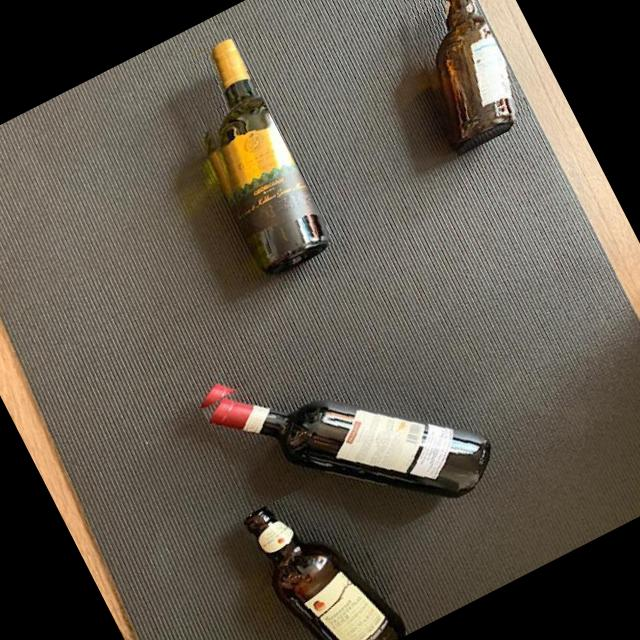Glass: (193, 282, 505, 582), (158, 36, 336, 284), (237, 473, 409, 640), (381, 0, 533, 156)
